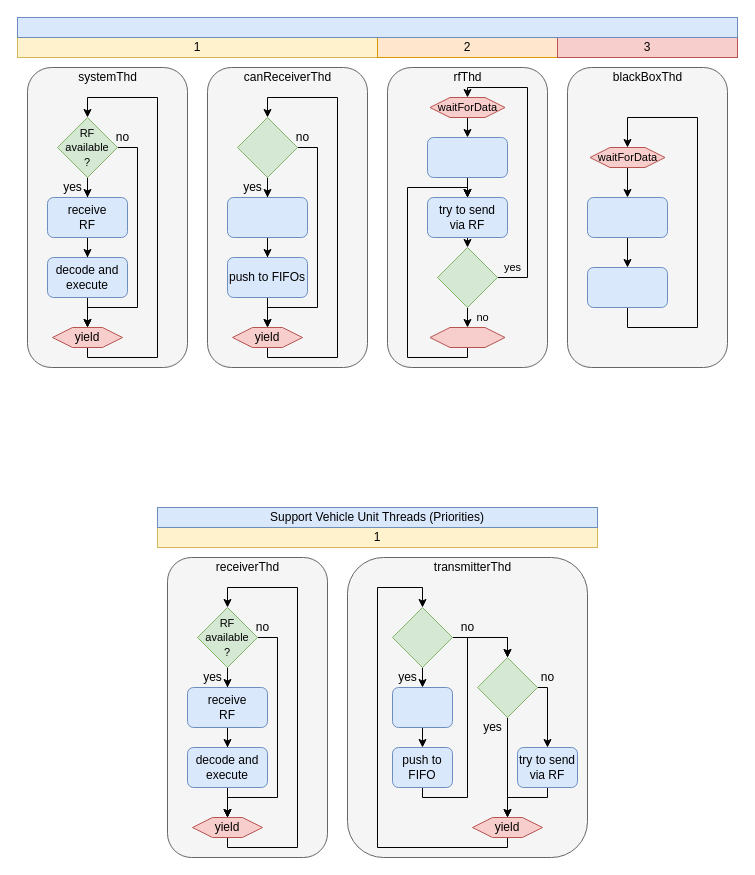
This 755x875 diagram has some shape labels left out. The box of each missing label's shape, as (x1, y1, x2, y2) in pixels:
CAN available ?: (236, 116, 298, 178)
FIFO empty ?: (476, 656, 538, 718)
read from bbFIFO: (586, 196, 668, 238)
read from rfFIFO: (426, 136, 508, 178)
receive CAN: (226, 196, 308, 238)
receive command: (392, 686, 452, 728)
Serial available ?: (392, 606, 452, 668)
sleep: (429, 326, 505, 348)
Solar Car Unit Threads (Priorities): (16, 16, 738, 38)
succesful ?: (436, 246, 498, 308)
write to BlackBox: (586, 266, 668, 308)
